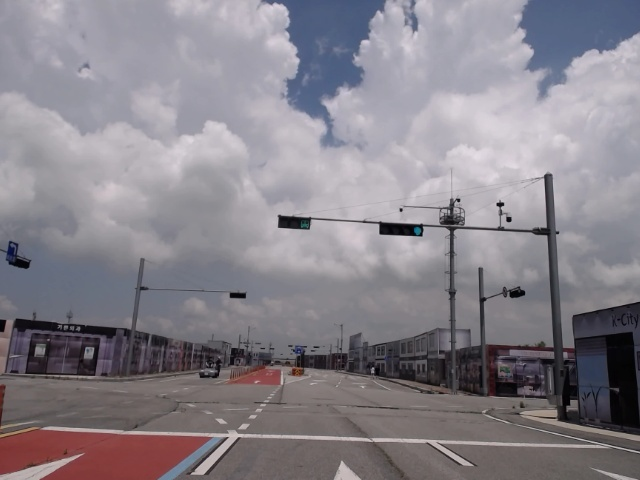straight_green_4: (378, 222, 422, 236)
